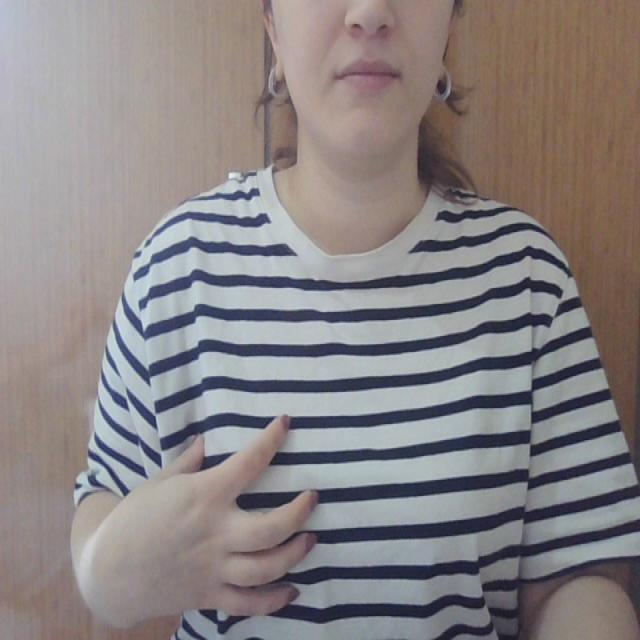Anne: (143, 406, 523, 626)
